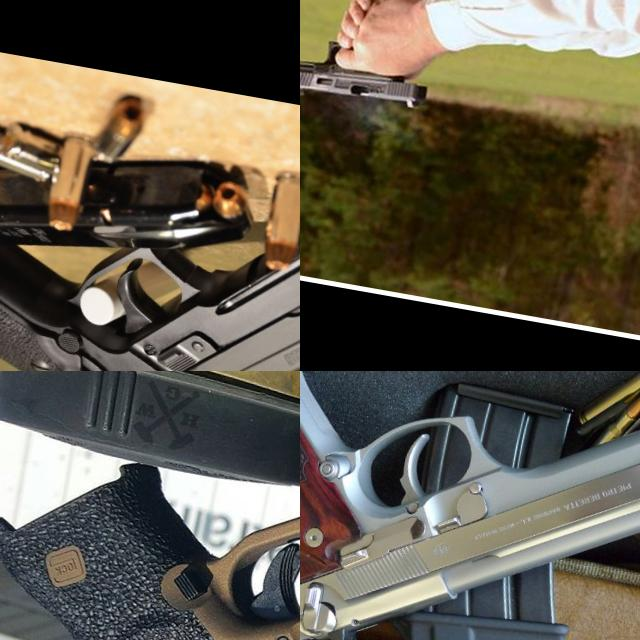handgun: (300, 371, 640, 640), (0, 111, 300, 371), (0, 430, 300, 640), (300, 30, 438, 120)
